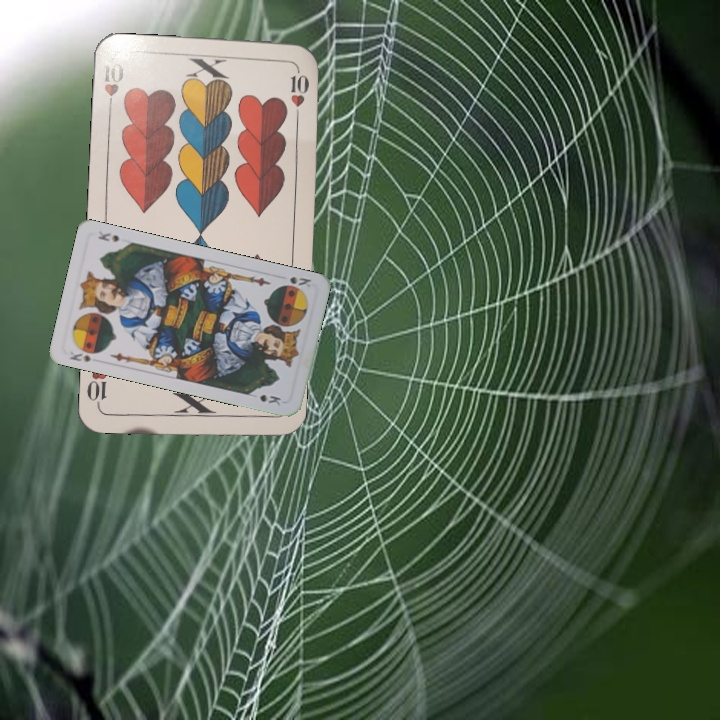H10: (100, 57, 127, 117)
SK: (286, 272, 314, 292), (65, 347, 95, 365)
